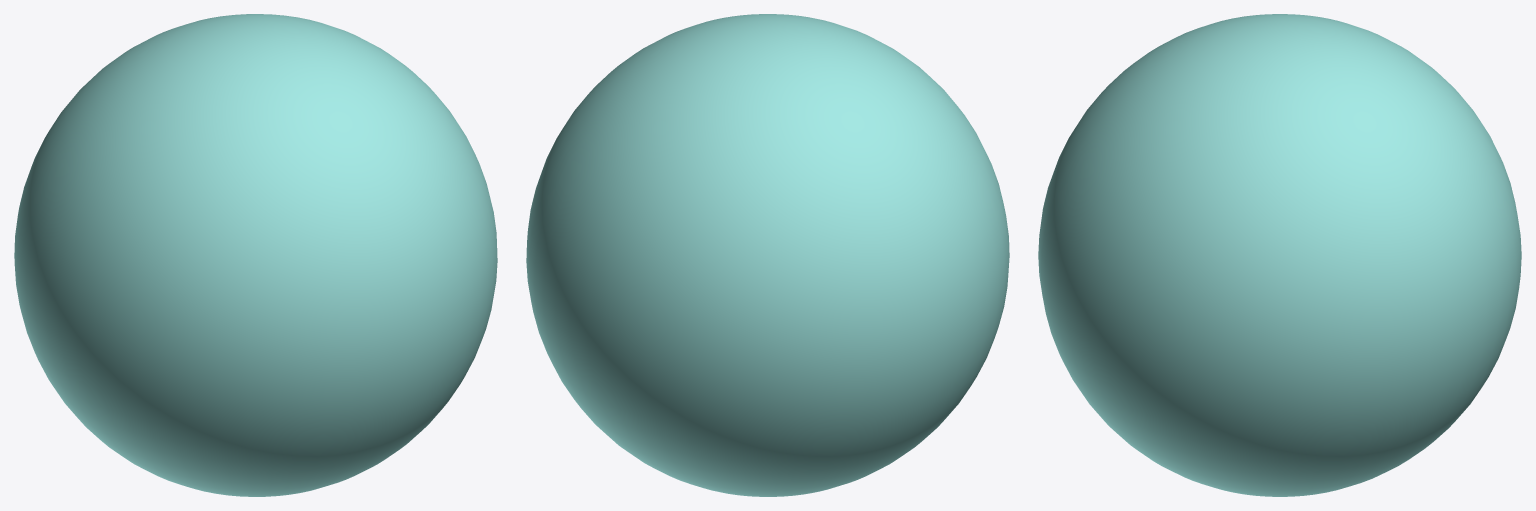
File: -oxygen-decimated.fbx
3 views of the same model, side by side, from view 1: azimuth 30°, elevation 25°; view 2: azimuth 150°, elevation 25°; view 3: azimuth 270°, elevation 25° (orthographic).
Visible parts, largest first — view 1: Body1; view 2: Body1; view 3: Body1.
Part boxes in pixels (x1,y1,x2,y2): Body1: (14, 14, 497, 496); Body1: (526, 14, 1009, 496); Body1: (1038, 14, 1521, 496).
Size of the model in its own units: 10 by 10 by 10.
